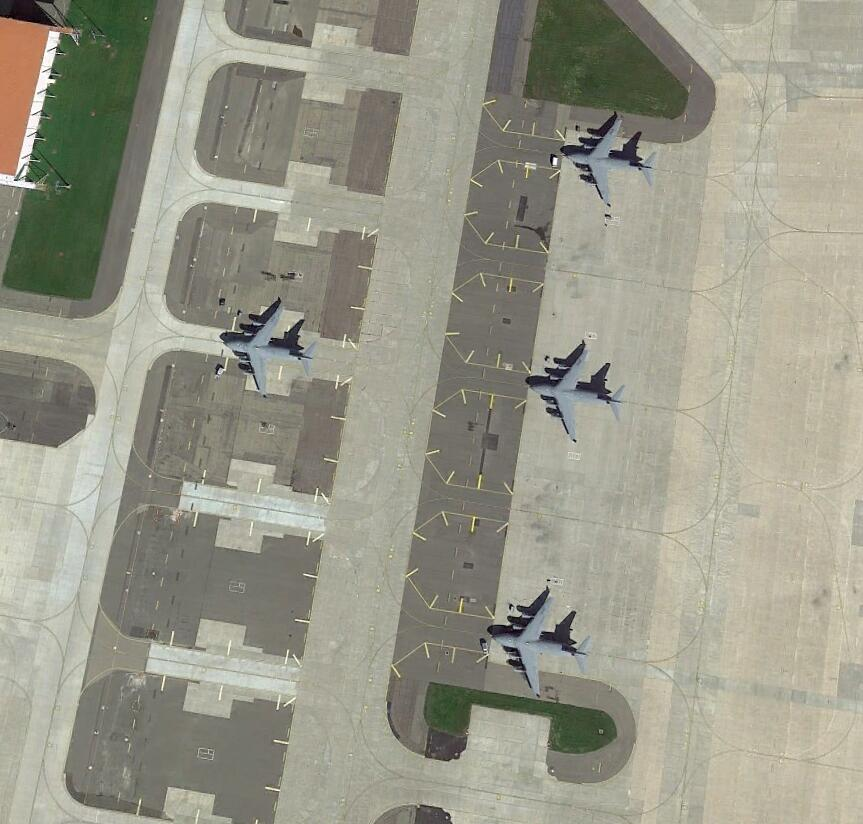A3: (487, 593, 593, 695), (525, 348, 629, 442), (220, 301, 320, 396), (560, 113, 657, 207)
